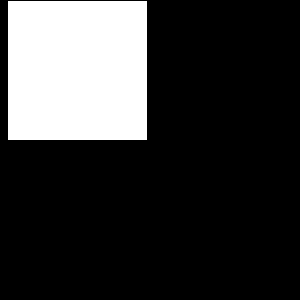circle: (8, 1, 147, 140)
